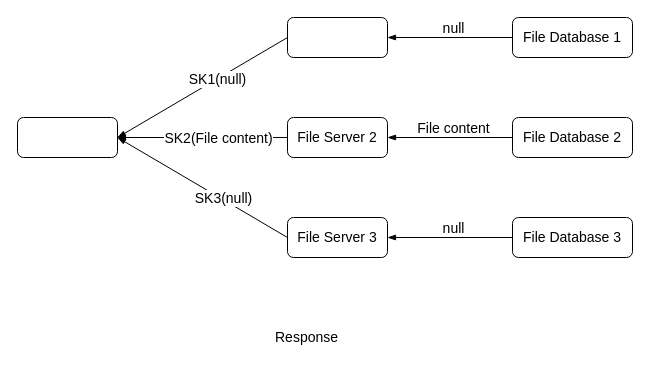
Some shapes in this 650 by 365 pixel diagram are drawn without their labels. Each missing label, with the centre of its shape:
Client: [67,137]
File Server 1: [337,37]
